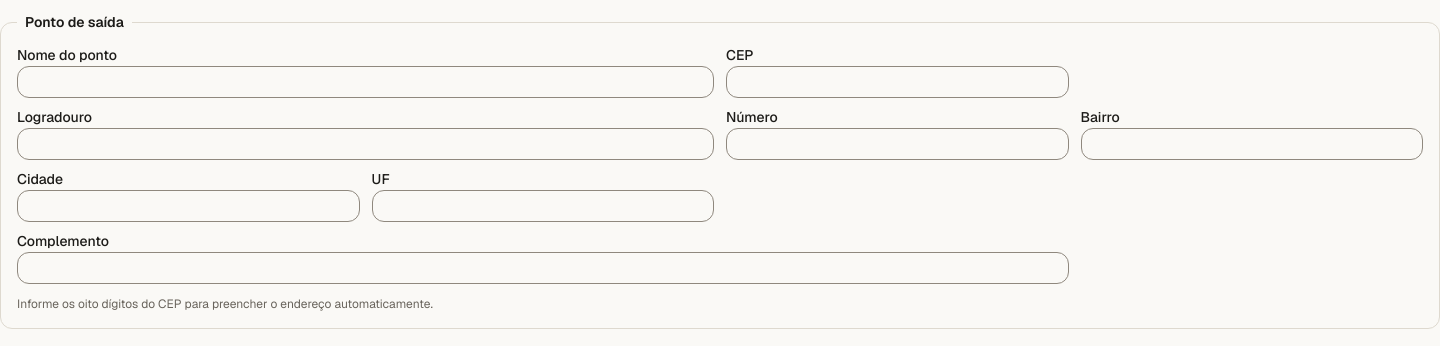
it: PostalCodeAddressFields › automatically fills the shared address fields after eight CEP digits
The width and height of the screenshot is (1440, 346).
Type "100" into the field labelled "Número".
click(897, 144); type("100")  # box [726, 128, 1068, 160]
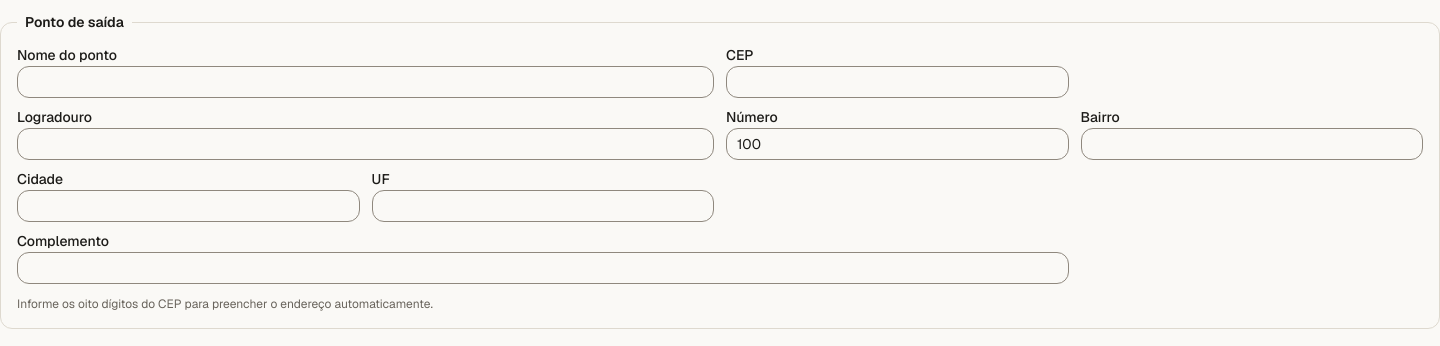
Type "01001000" into the field labelled "CEP".
click(897, 82); type("01001000")  # box [726, 66, 1068, 98]
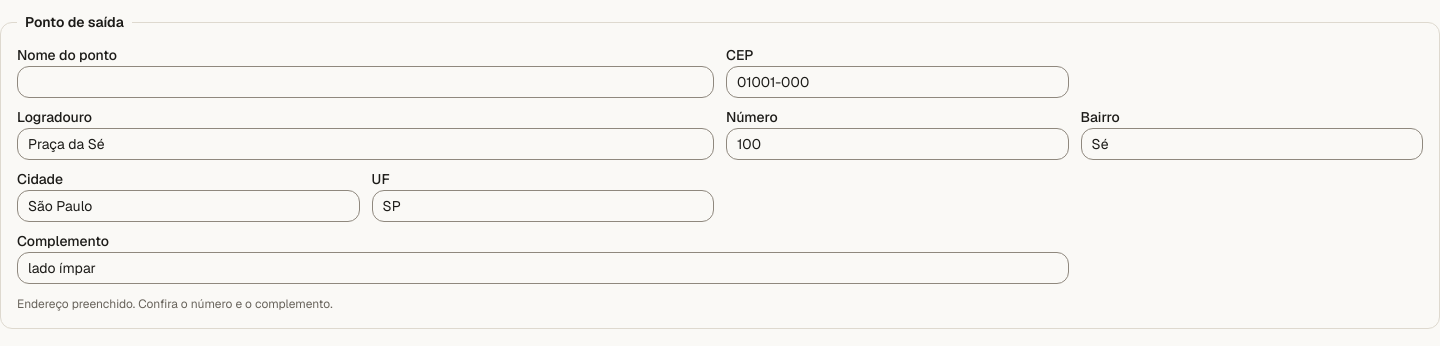
Expected: the field labelled "Logradouro" holds "Praça da Sé", [17, 128, 714, 160]
Expected: the field labelled "Bairro" holds "Sé", [1080, 128, 1423, 160]
Expected: the field labelled "Cidade" holds "São Paulo", [17, 190, 360, 222]
